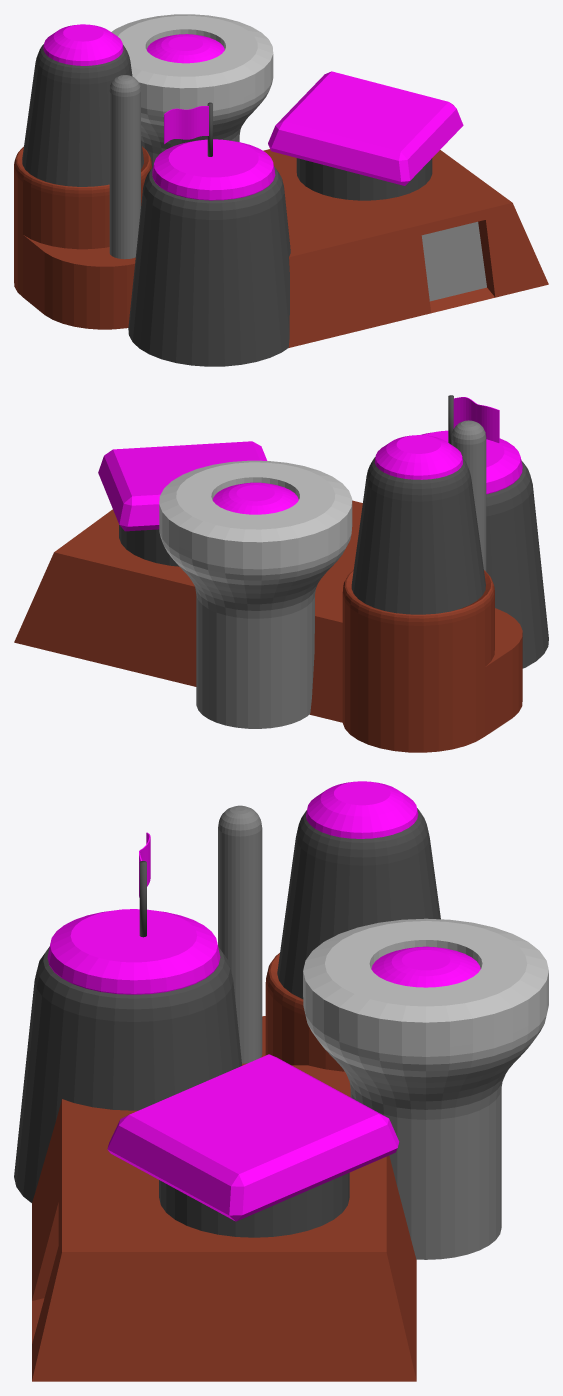
Rendered from Academy.fbx.
The picture shows the model from 3 angles, top to bottom: view 1: azimuth 30°, elevation 25°; view 2: azimuth 150°, elevation 25°; view 3: azimuth 270°, elevation 25°; orthographic projection. The views are drawn at different scales.
Visible parts, largest first — view 1: Cube.002; view 2: Cube.002; view 3: Cube.002.
Boxes of the visible parts, x1,y1,x2,y2 form: Cube.002: (14,14,548,366); Cube.002: (14,395,548,752); Cube.002: (14,781,548,1381).
Bounding box in the file's own units: 280 × 164 × 226.
